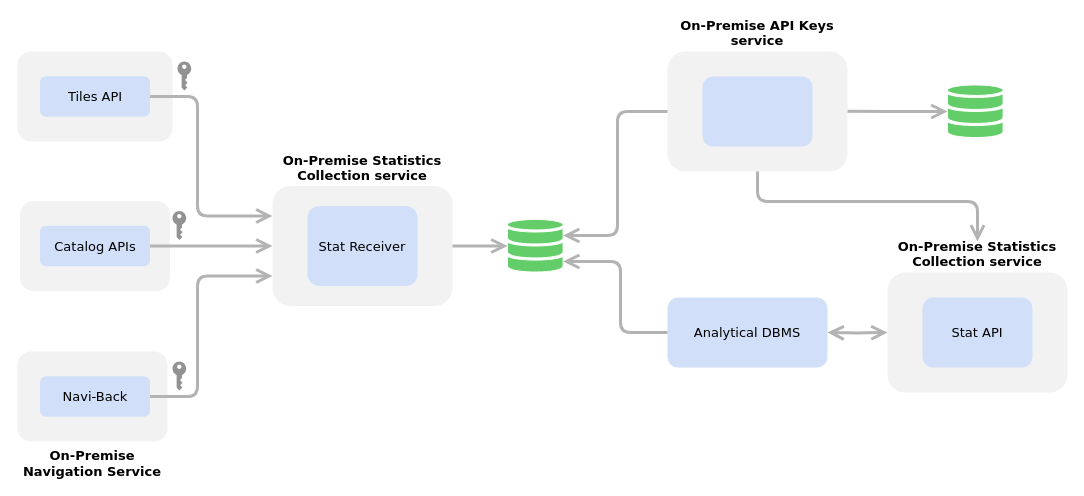
This 1084x496 diagram has some shape labels left out. Each missing label, with the box of its shape:
API Keys backend: (702, 76, 812, 146)
Broker: (506, 218, 563, 273)
On-Premise Maps Service: (17, 51, 172, 141)
On-Premise Search Services: (20, 200, 170, 290)
Redis-like DBMS: (946, 84, 1003, 138)
